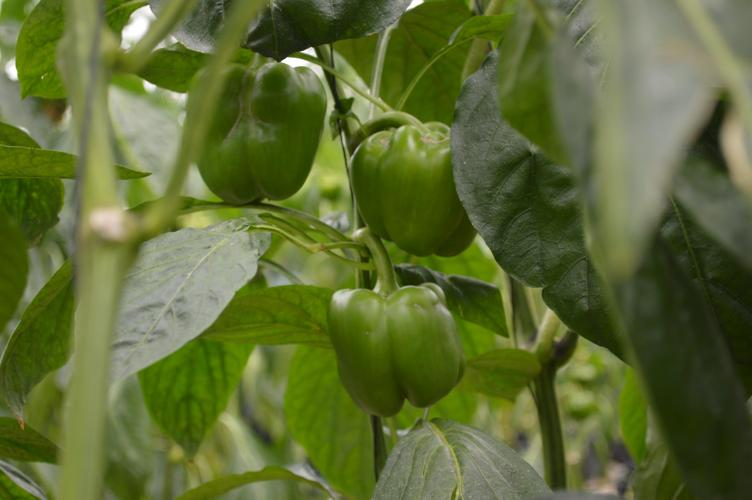BellPepper: (176, 62, 338, 206), (343, 119, 483, 264), (324, 288, 467, 423)
